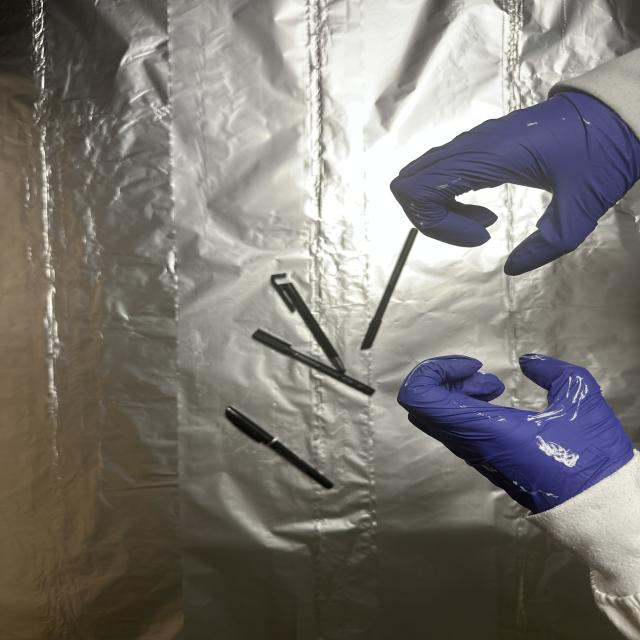gloves_contaminated: (391, 92, 640, 275), (398, 354, 632, 514)
